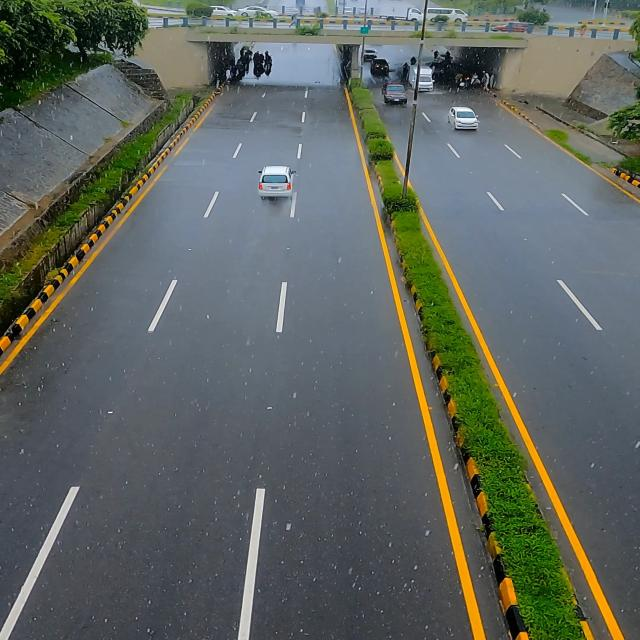Car: (253, 162, 307, 204), (444, 103, 489, 133)
